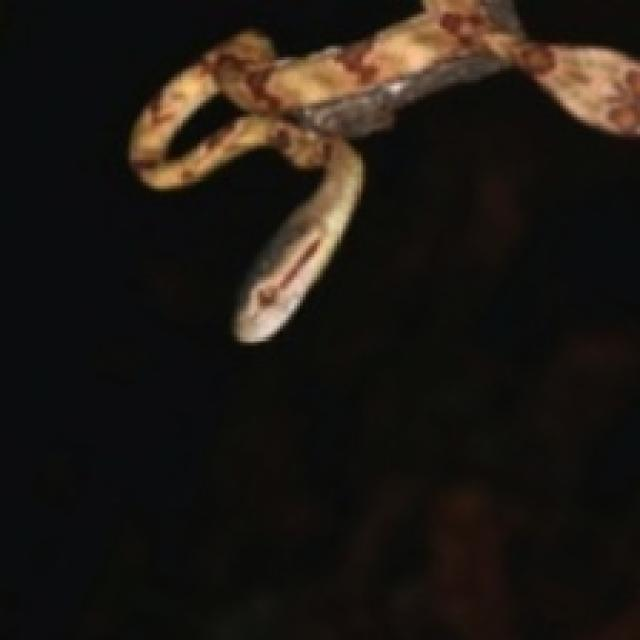dog-toothed cat snake: (129, 0, 637, 340)
